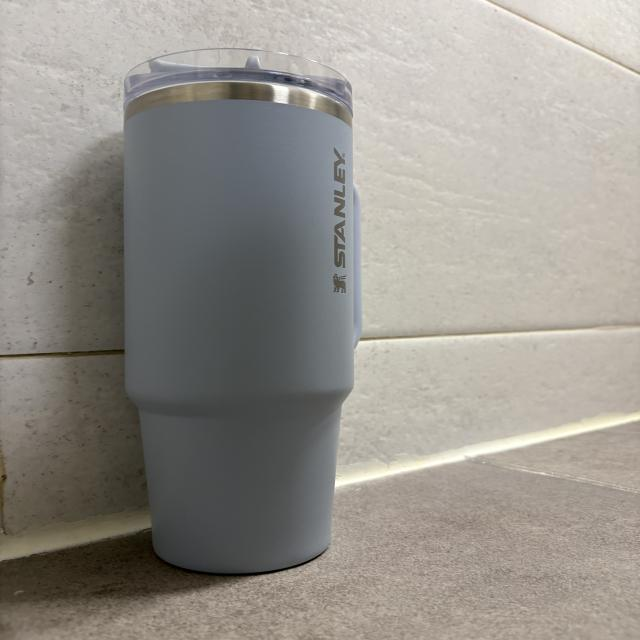waterbottle: (122, 48, 360, 574)
